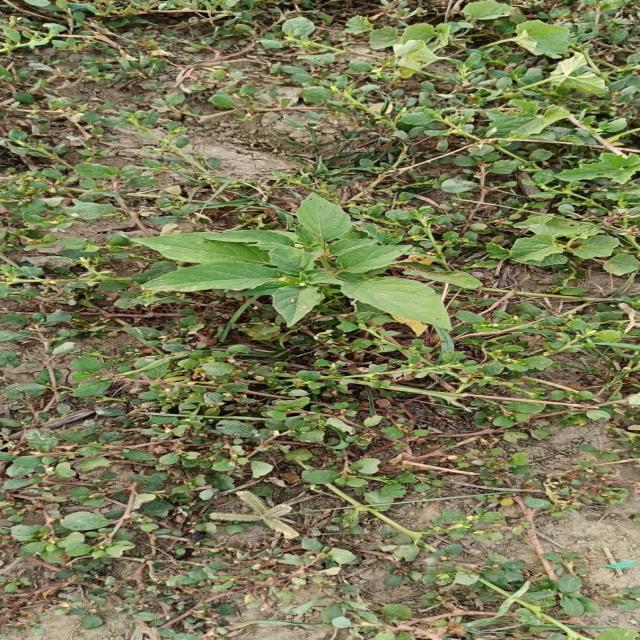plant: (134, 196, 449, 329)
